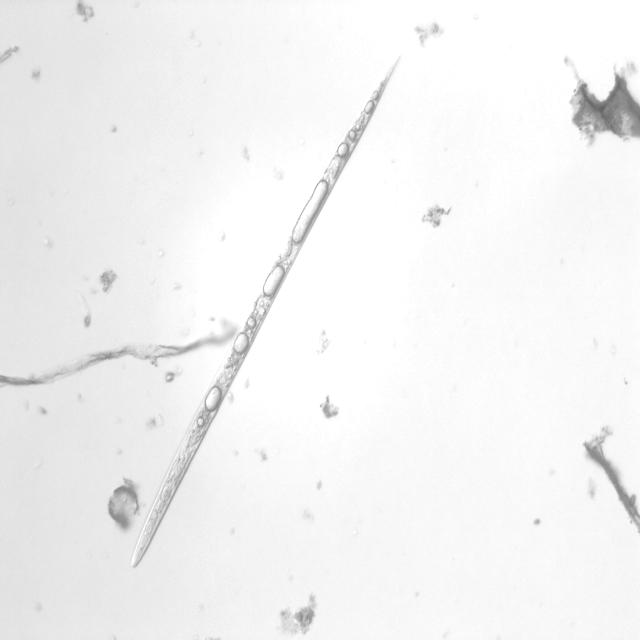Meloidogyne: (131, 49, 403, 572)
